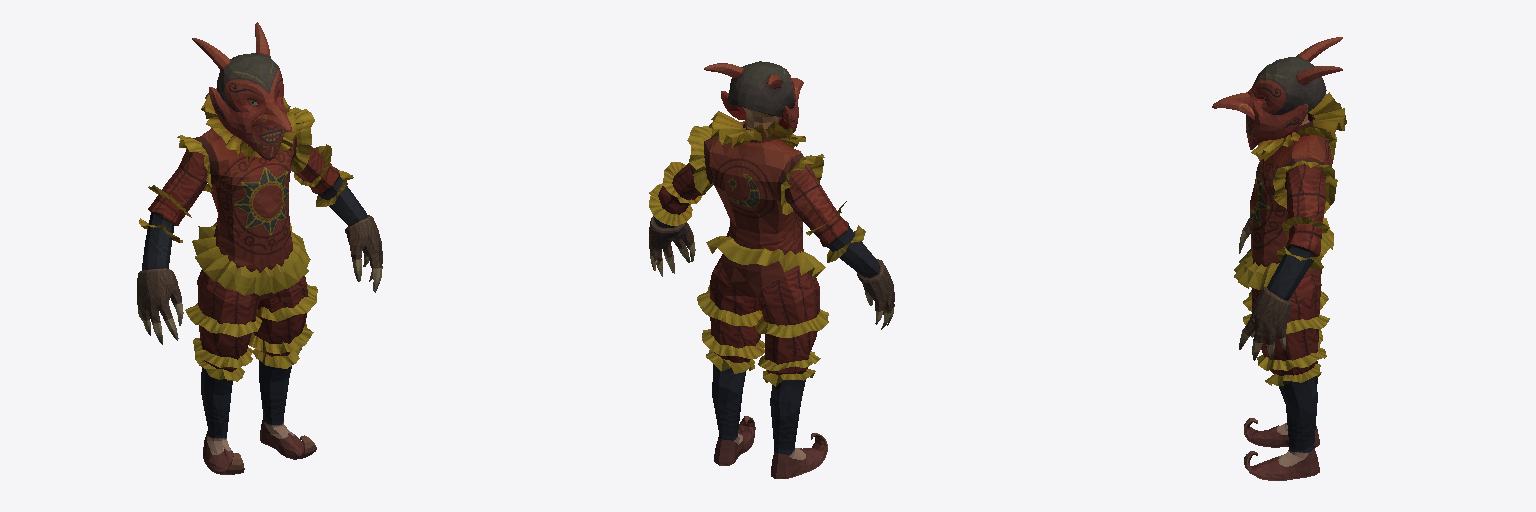
3 views of the same model, side by side, from view 1: azimuth 30°, elevation 25°; view 2: azimuth 150°, elevation 25°; view 3: azimuth 270°, elevation 25° (orthographic).
Size of the model in its own units: 1.77 by 2.88 by 0.8659.
Materials: 1 (1 with a texture image).